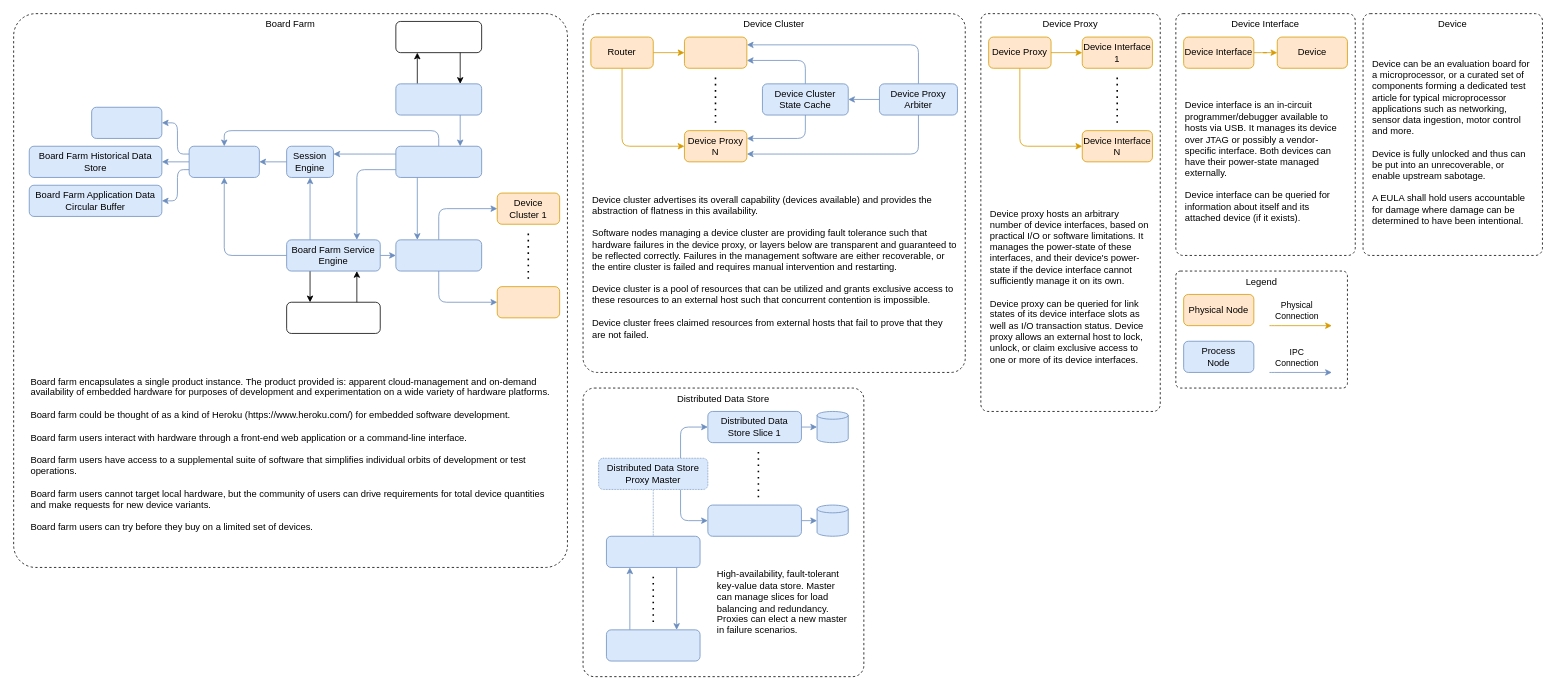
The diagram is 1556 pixels wide and 690 high, and some of its shapes have lost their labels. Each missing label, with the centre of its shape:
"Board Farm CI/CD" belongs at (438,99).
"Board Farm State Cache" belongs at (223,161).
"Customer Application" belongs at (333,317).
"Customer Data Store" belongs at (126,122).
"Developer Management" belongs at (438,37).
"Device Cluster N" belongs at (528,302).
"Device Cluster Proxy" belongs at (438,255).
"Device Proxy 1" belongs at (715,52).
"Distributed Data Store Proxy 1" belongs at (653,551).
"Distributed Data Store Proxy N" belongs at (653,645).
"Distributed Data Store Slice M" belongs at (754,520).
"Monitoring Engine" belongs at (438,161).
